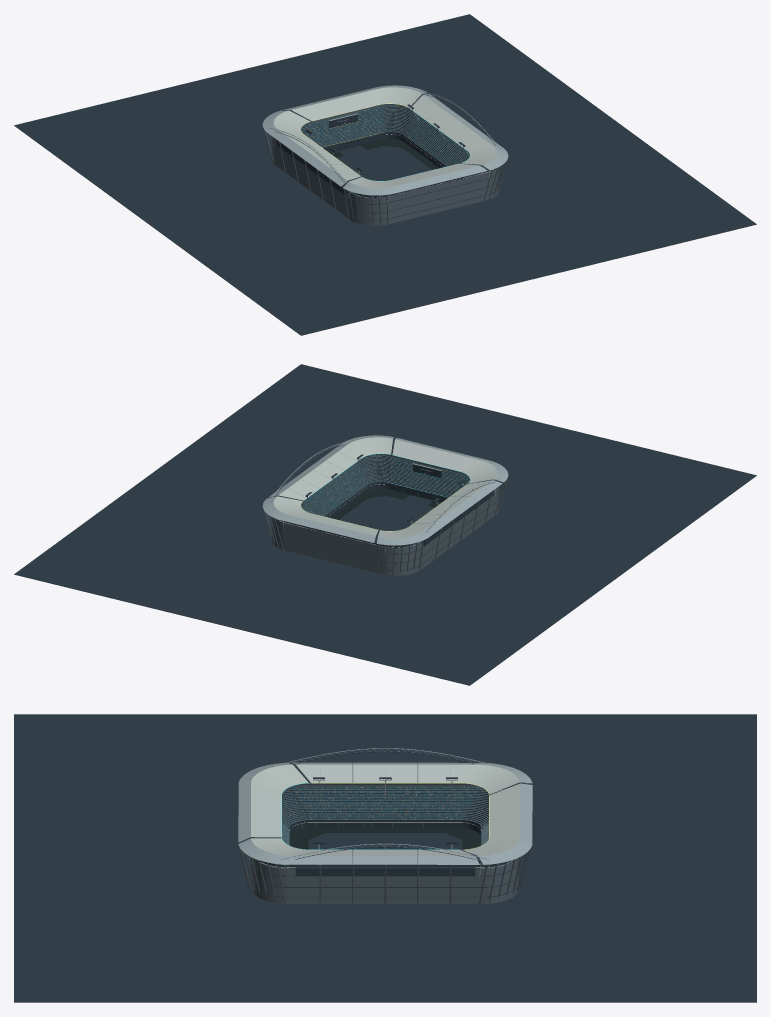
The model's file is stadium.glb.
The picture shows the model from 3 angles, top to bottom: view 1: azimuth 30°, elevation 25°; view 2: azimuth 150°, elevation 25°; view 3: azimuth 270°, elevation 25°; orthographic projection. The views are drawn at different scales.
Visible parts, largest first — view 1: Concourse facade / Basalt, Roof and lighting / Canopy, Concourse facade / Concrete, Seating bowl / Basalt, Roof and lighting / Titanium, Seating bowl / Inner fascia, Seating bowl / Tier deck, Seating bowl / Seat petrol, Roof and lighting / Concrete, Field apron / Apron, Seating bowl / Seat teal, Roof and lighting / Basalt (+1 smaller); view 2: Concourse facade / Basalt, Roof and lighting / Canopy, Concourse facade / Concrete, Seating bowl / Basalt, Roof and lighting / Titanium, Seating bowl / Inner fascia, Seating bowl / Tier deck, Seating bowl / Seat petrol, Roof and lighting / Concrete, Field apron / Apron, Seating bowl / Seat teal, Roof and lighting / Basalt (+1 smaller); view 3: Concourse facade / Basalt, Roof and lighting / Canopy, Concourse facade / Concrete, Seating bowl / Basalt, Roof and lighting / Titanium, Seating bowl / Inner fascia, Seating bowl / Tier deck, Seating bowl / Seat petrol, Roof and lighting / Concrete, Field apron / Apron, Field apron / Inner fascia, Seating bowl / Seat teal (+2 smaller).
Boxes of the visible parts, bbox=[...] form: Concourse facade / Basalt: bbox=[14, 14, 756, 335]; Roof and lighting / Canopy: bbox=[273, 87, 497, 188]; Concourse facade / Concrete: bbox=[271, 104, 499, 225]; Seating bowl / Basalt: bbox=[252, 140, 518, 234]; Roof and lighting / Titanium: bbox=[262, 85, 508, 203]; Seating bowl / Inner fascia: bbox=[301, 105, 472, 179]; Seating bowl / Tier deck: bbox=[301, 105, 490, 195]; Seating bowl / Seat petrol: bbox=[301, 104, 489, 196]; Roof and lighting / Concrete: bbox=[262, 89, 508, 225]; Field apron / Apron: bbox=[329, 138, 455, 197]; Seating bowl / Seat teal: bbox=[302, 104, 488, 172]; Roof and lighting / Basalt: bbox=[275, 93, 495, 193]; Concourse facade / Basalt: bbox=[14, 364, 756, 685]; Roof and lighting / Canopy: bbox=[273, 437, 497, 538]; Concourse facade / Concrete: bbox=[271, 449, 499, 575]; Seating bowl / Basalt: bbox=[252, 447, 518, 584]; Roof and lighting / Titanium: bbox=[262, 435, 508, 554]; Seating bowl / Inner fascia: bbox=[298, 455, 469, 529]; Seating bowl / Tier deck: bbox=[277, 455, 469, 545]; Seating bowl / Seat petrol: bbox=[278, 454, 469, 546]; Roof and lighting / Concrete: bbox=[262, 435, 508, 575]; Field apron / Apron: bbox=[315, 488, 441, 547]; Seating bowl / Seat teal: bbox=[301, 455, 469, 545]; Roof and lighting / Basalt: bbox=[269, 437, 503, 542]; Concourse facade / Basalt: bbox=[14, 714, 756, 1002]; Roof and lighting / Canopy: bbox=[250, 764, 520, 855]; Concourse facade / Concrete: bbox=[251, 784, 519, 903]; Seating bowl / Basalt: bbox=[229, 775, 541, 913]; Roof and lighting / Titanium: bbox=[238, 748, 532, 877]; Seating bowl / Inner fascia: bbox=[282, 788, 488, 829]; Seating bowl / Tier deck: bbox=[260, 787, 512, 868]; Seating bowl / Seat petrol: bbox=[265, 787, 508, 868]; Roof and lighting / Concrete: bbox=[238, 762, 532, 905]; Field apron / Apron: bbox=[289, 828, 481, 868]; Field apron / Inner fascia: bbox=[289, 822, 481, 835]; Seating bowl / Seat teal: bbox=[262, 787, 493, 868].
Size of the model in its own units: 440 by 44.73 by 480.
17 materials, 1 textured.
